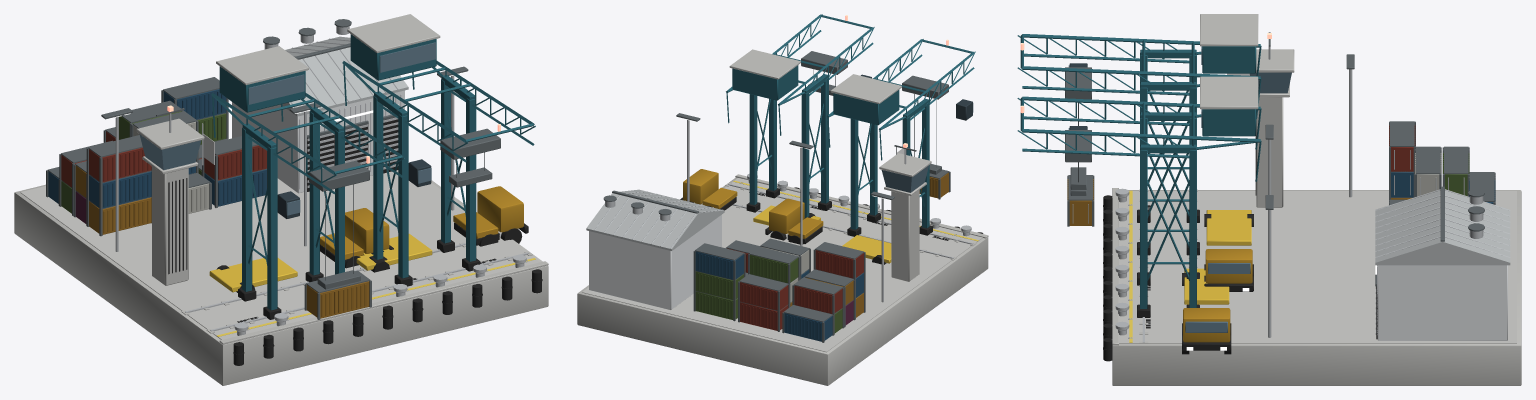
Rendered from port.glb.
The picture shows the model from 3 angles, left to right: view 1: azimuth 30°, elevation 25°; view 2: azimuth 150°, elevation 25°; view 3: azimuth 270°, elevation 25°; orthographic projection. The views are drawn at different scales.
Parts seen in each view (by area): view 1: paint, wall_concrete, pavers, steel_dark, dark, metal, cladding, glass, hazard; view 2: paint, wall_concrete, pavers, steel_dark, cladding, metal, dark, hazard, glass; view 3: wall_concrete, pavers, paint, cladding, steel_dark, metal, dark, hazard, glass.
Boxes of the visible parts, x1,y1,x2,y2 form: paint: [48, 34, 535, 318]; wall_concrete: [14, 14, 548, 385]; pavers: [20, 170, 539, 339]; steel_dark: [46, 19, 500, 319]; dark: [168, 119, 542, 365]; metal: [115, 26, 529, 335]; cladding: [232, 90, 404, 193]; glass: [139, 42, 435, 215]; hazard: [209, 233, 535, 336]; paint: [683, 14, 975, 341]; wall_concrete: [577, 49, 988, 385]; pavers: [582, 178, 982, 352]; steel_dark: [603, 51, 950, 342]; cladding: [589, 215, 721, 309]; metal: [594, 120, 973, 302]; dark: [680, 187, 983, 264]; hazard: [733, 180, 978, 263]; glass: [872, 78, 973, 192]; wall_concrete: [1112, 14, 1521, 385]; pavers: [1119, 191, 1516, 343]; paint: [1017, 34, 1495, 342]; cladding: [1377, 265, 1507, 340]; steel_dark: [1065, 32, 1495, 286]; metal: [1072, 46, 1510, 342]; dark: [1103, 135, 1377, 361]; hazard: [1129, 190, 1251, 342]; glass: [1068, 46, 1291, 332].
Size of the model in its own units: 17.24 by 12.22 by 22.42.
